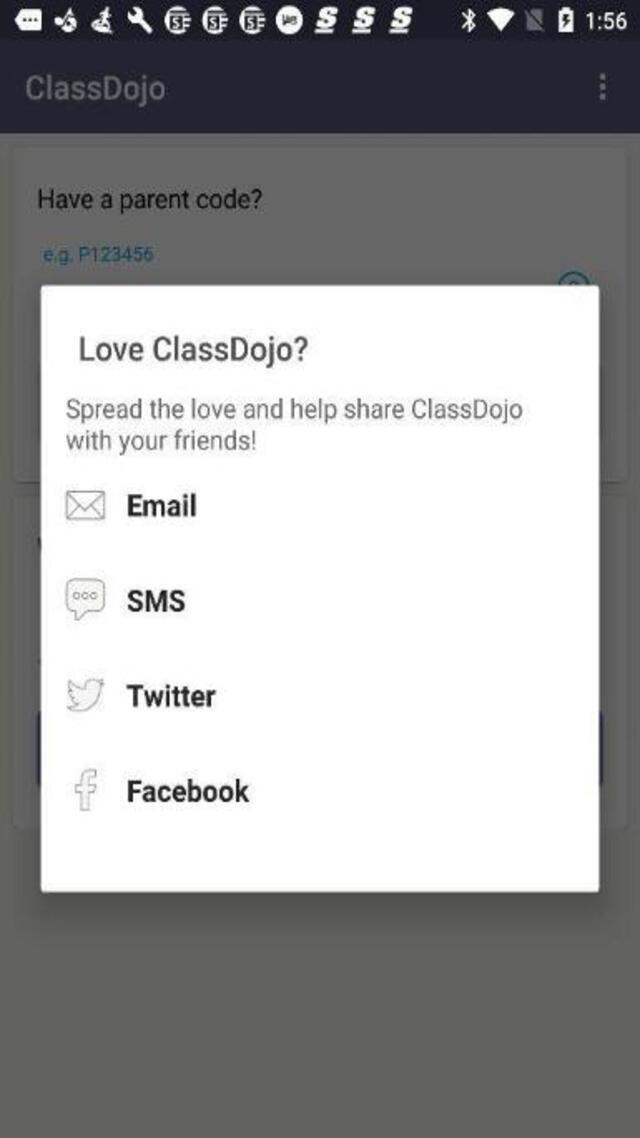Icon: (66, 578, 104, 620), (66, 678, 104, 712), (66, 491, 104, 519), (75, 767, 95, 808), (598, 73, 606, 101)
Text: (63, 395, 524, 424), (76, 335, 306, 368), (38, 188, 261, 214), (60, 427, 266, 455), (25, 73, 165, 108), (128, 778, 248, 801), (44, 247, 152, 265), (126, 684, 216, 705), (127, 494, 195, 516), (128, 589, 185, 610)
